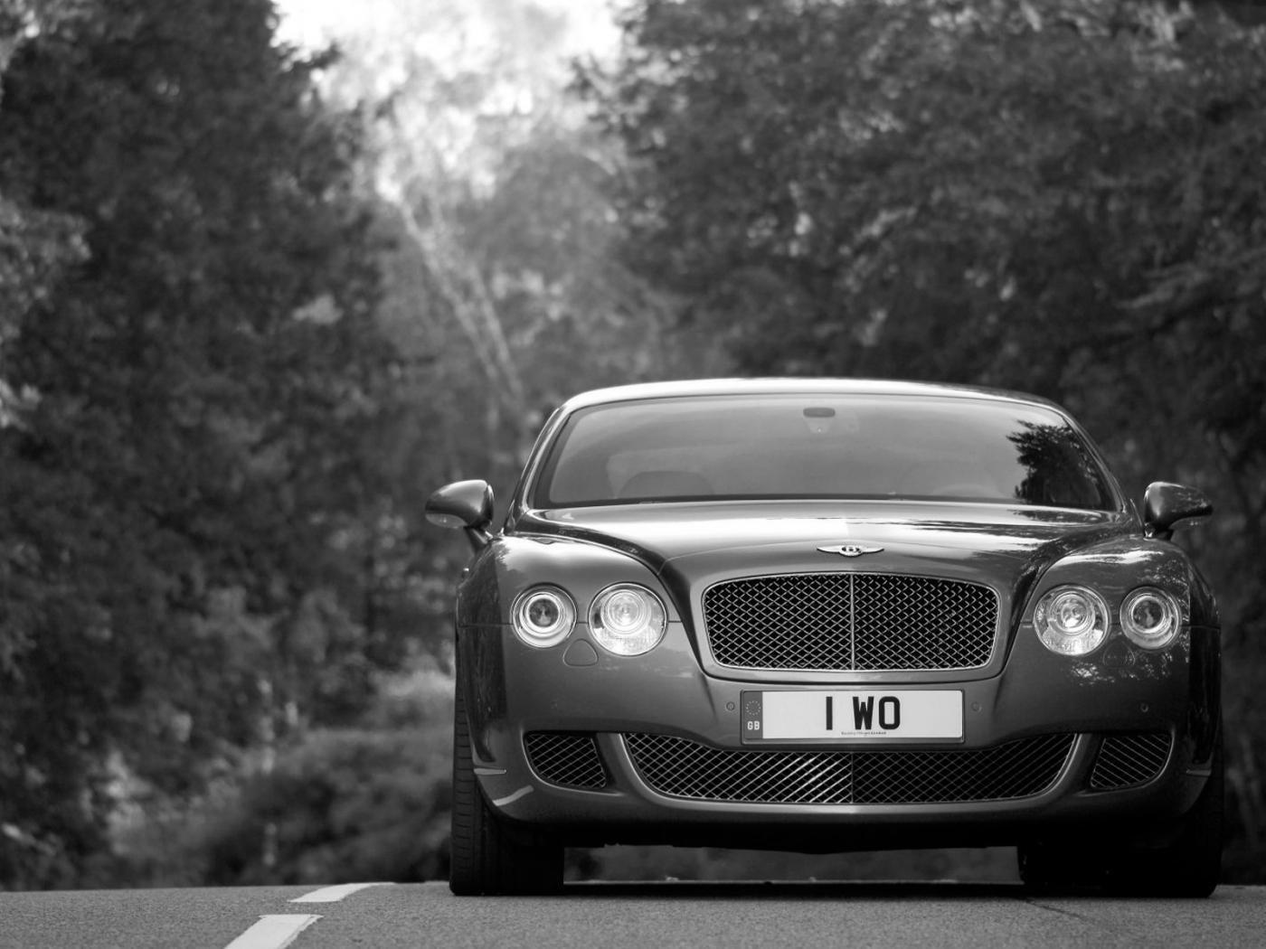car: (414, 369, 1242, 915)
